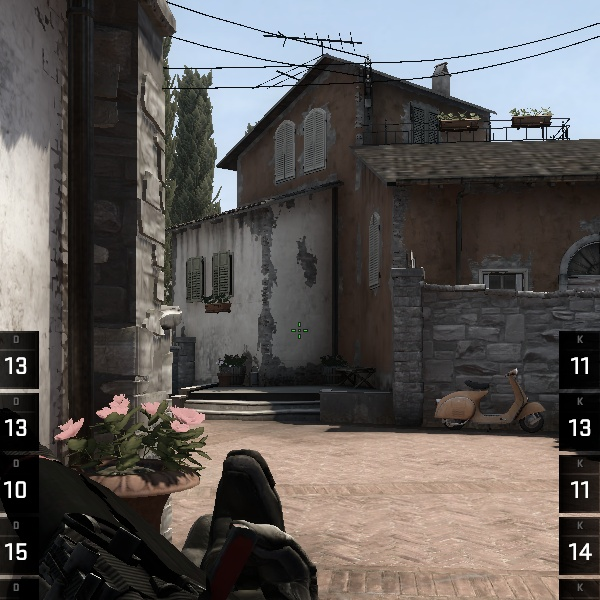ct_body: (0, 373, 374, 589)
